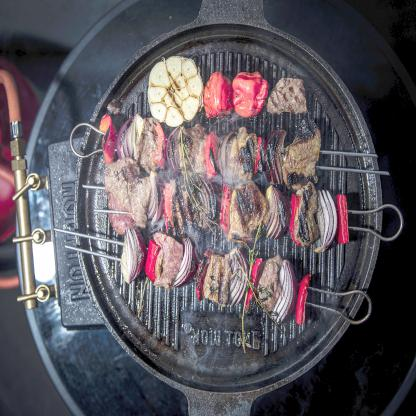Carne: (282, 131, 323, 191), (104, 154, 136, 222), (266, 72, 310, 118), (232, 180, 264, 241), (204, 250, 232, 307), (254, 258, 281, 312), (134, 172, 150, 234)
